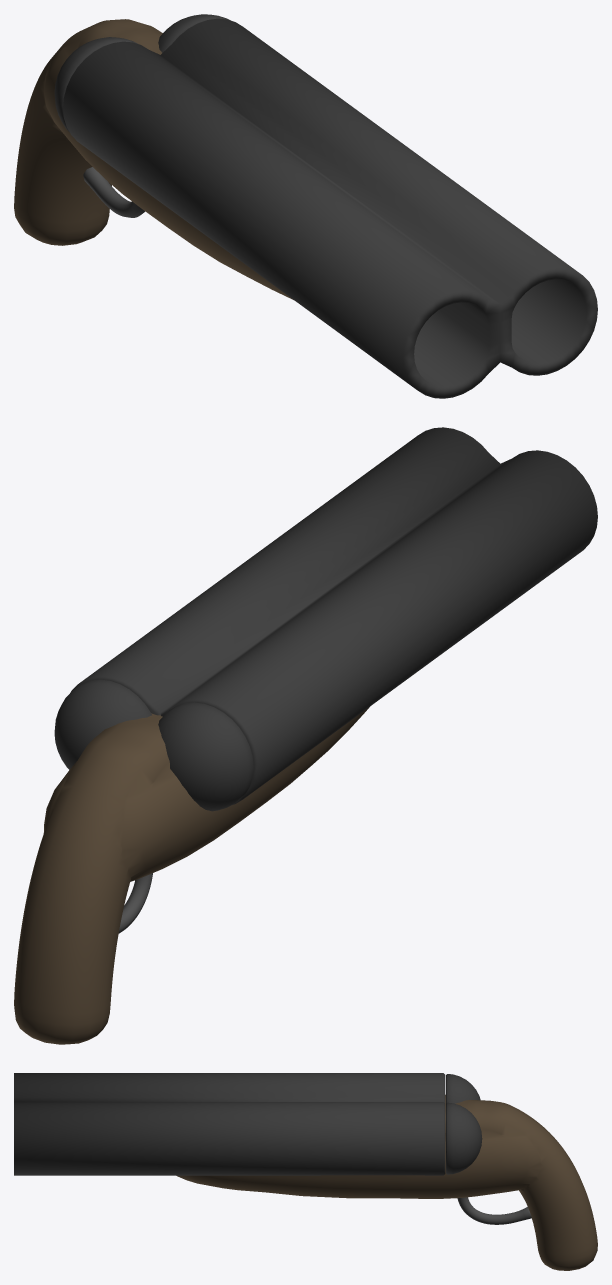
File: shotgun.fbx
3 views of the same model, one above another, from view 1: azimuth 30°, elevation 25°; view 2: azimuth 150°, elevation 25°; view 3: azimuth 270°, elevation 25° (orthographic). The views are drawn at different scales.
Visible parts, largest first — view 1: shotgun; view 2: shotgun; view 3: shotgun.
Part boxes in pixels (left/top/right/bottom): shotgun: left=14, top=14, right=597, bottom=398; shotgun: left=14, top=427, right=597, bottom=1044; shotgun: left=14, top=1073, right=597, bottom=1270.
Bounding box in the file's own units: 279 × 377 × 1144.
